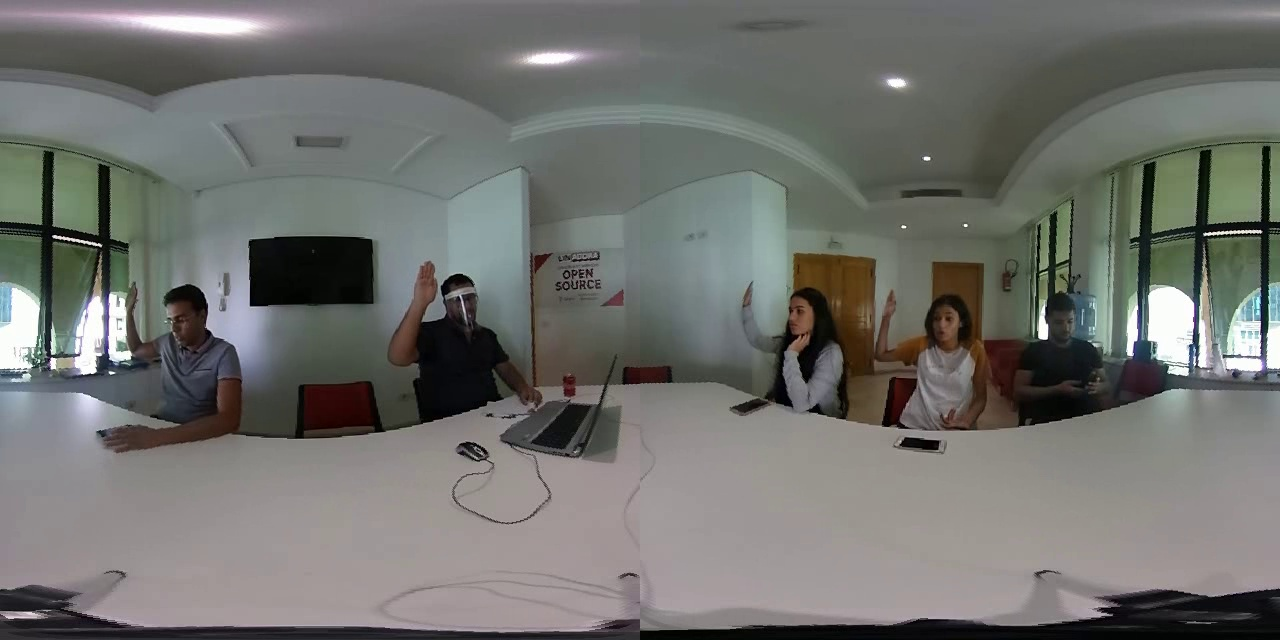person: (111, 268, 250, 452), (384, 260, 539, 418), (873, 285, 1000, 435), (720, 274, 846, 425), (1012, 292, 1110, 424)
voting: (389, 250, 444, 369), (115, 274, 156, 365), (735, 281, 779, 359), (871, 288, 912, 365)
